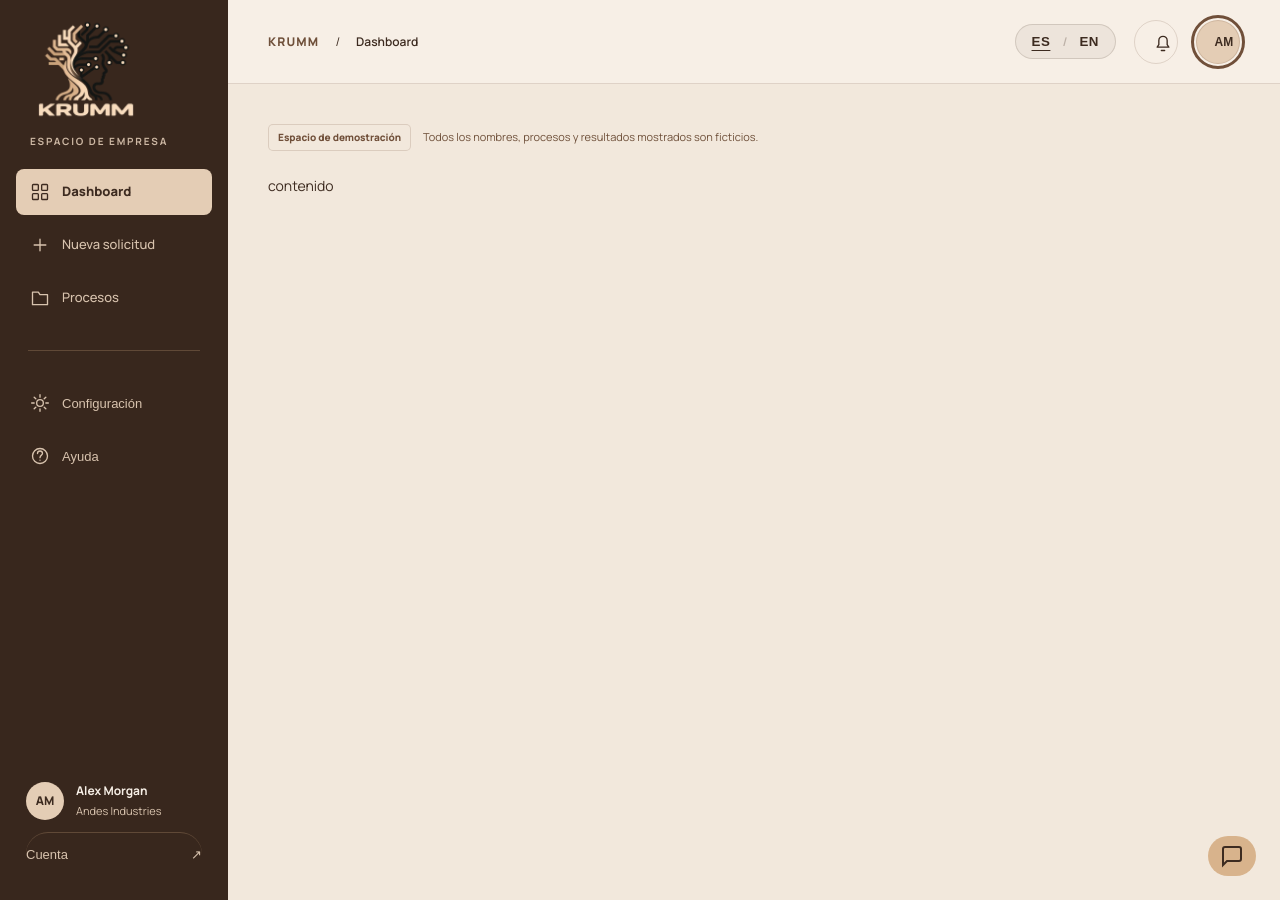
it: CompanyShell (ref company.html) › perfil: dropdown Sign out → /portal; Escape cierra y devuelve focus
Click the button with aria-label "Cuenta".
click(1218, 42)  # box [1196, 20, 1240, 64]
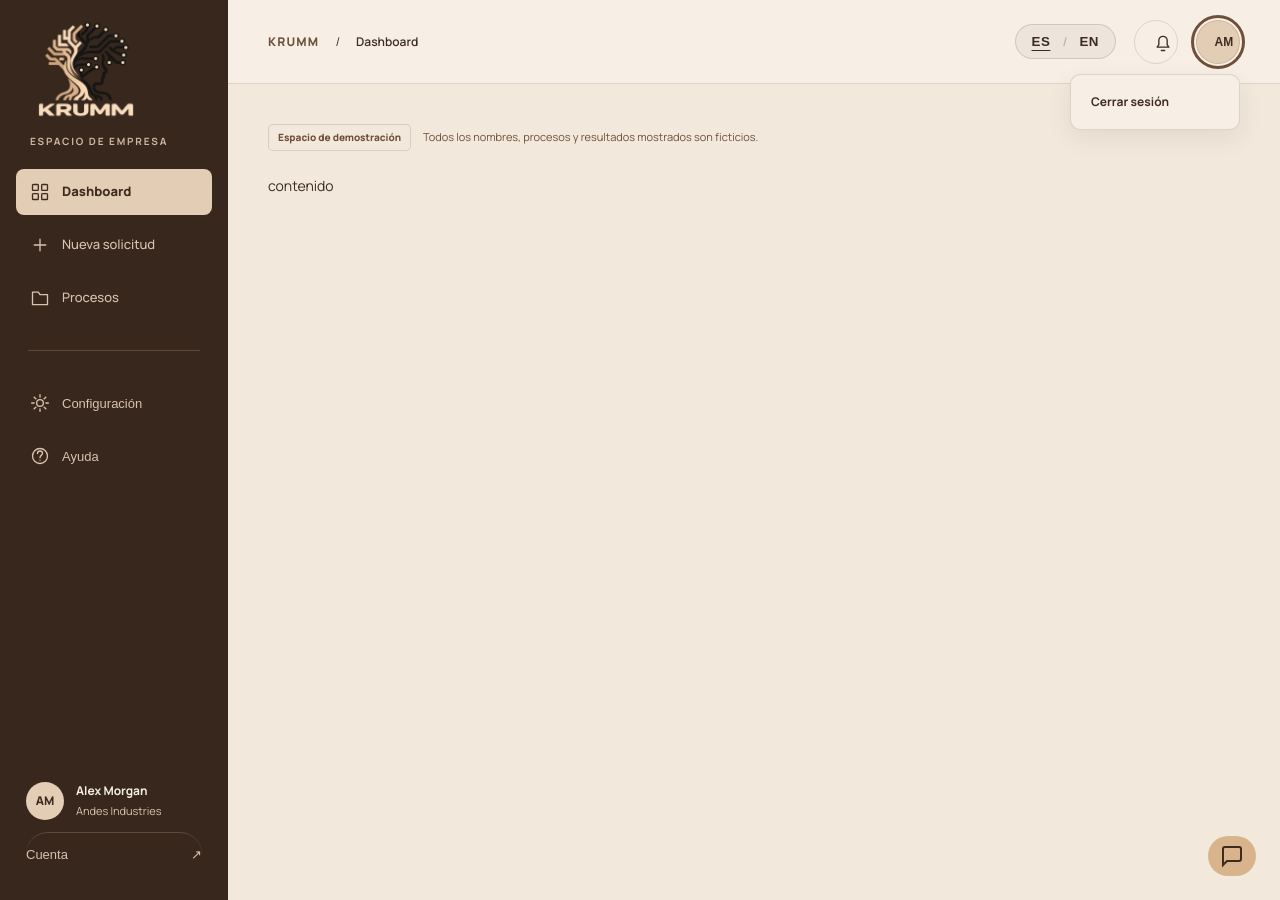
Press Escape
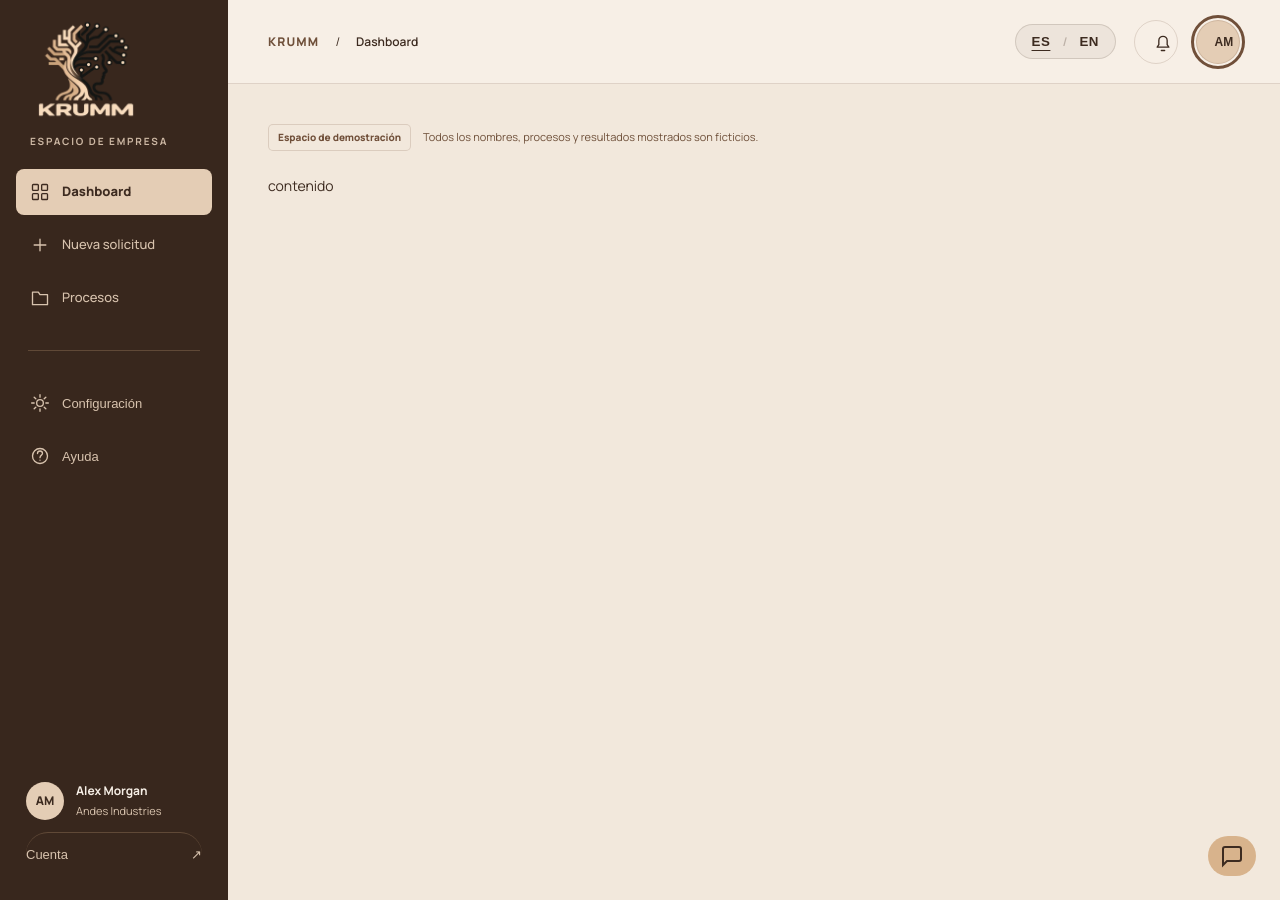
Result: the menu is gone
